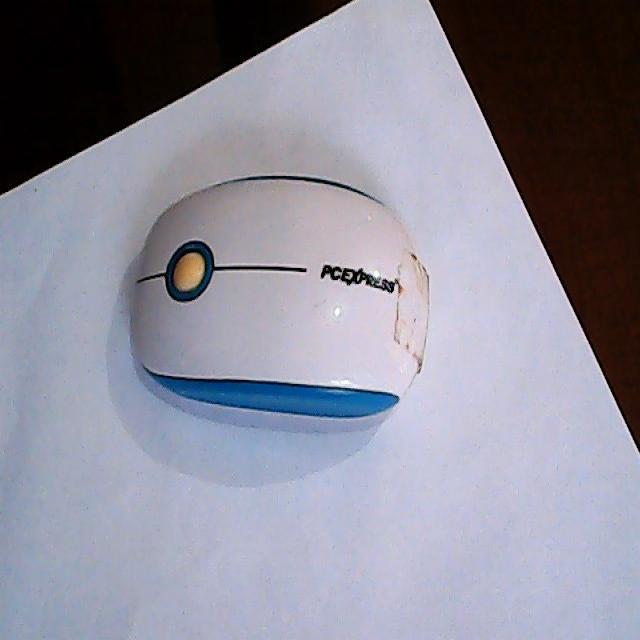-laptop-: (130, 172, 430, 418)
